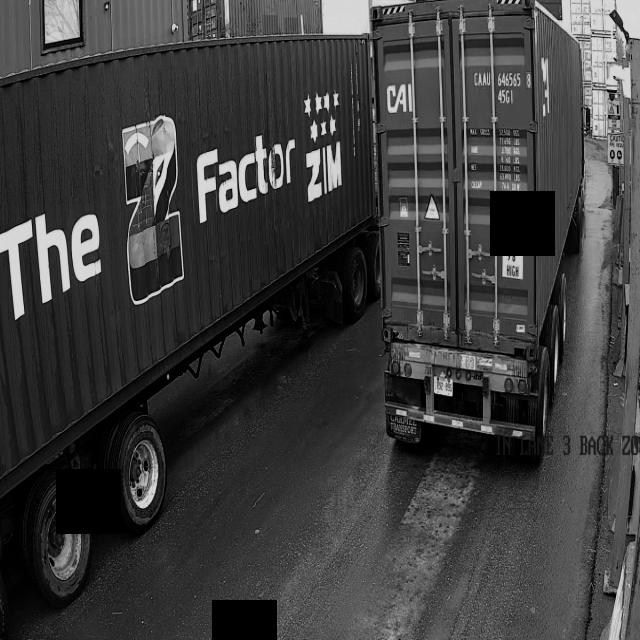container_company_logo: (381, 77, 417, 111)
container_number: (470, 70, 532, 104)
license_plate: (432, 374, 454, 397)
other_container_info: (468, 124, 527, 211)
truck_with_container: (0, 35, 377, 603), (378, 0, 586, 439)
